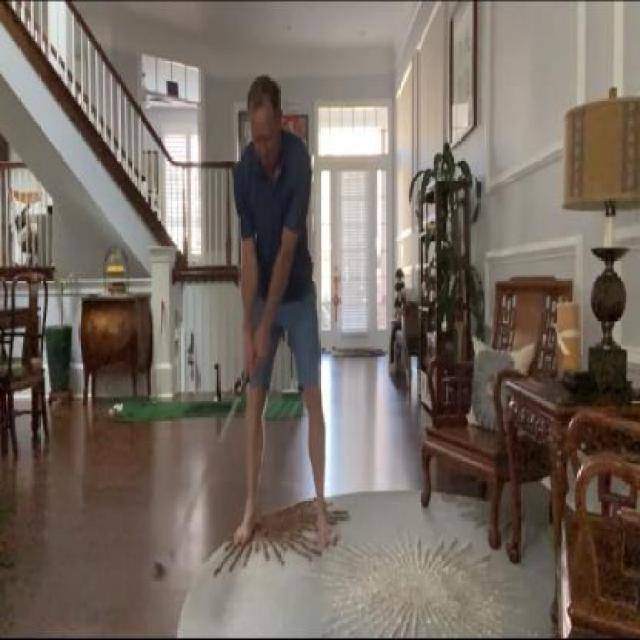club head: (151, 558, 169, 584)
